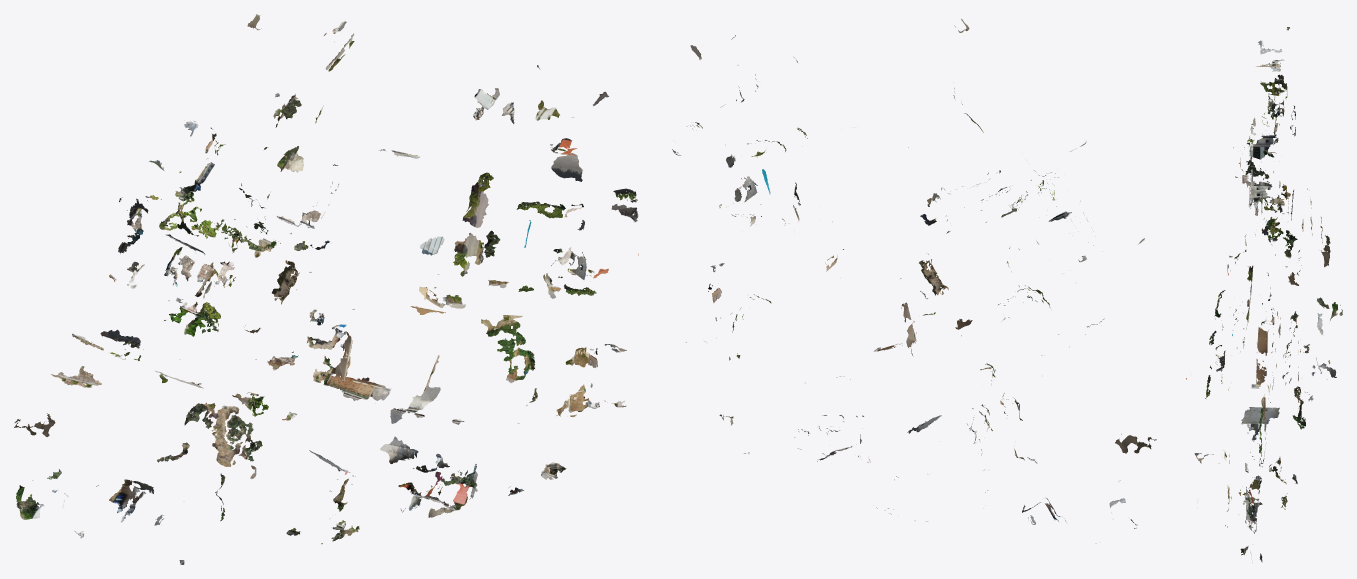
Rendered from tile_4.glb.
3 renders of one model, left to right at view 1: azimuth 30°, elevation 25°; view 2: azimuth 150°, elevation 25°; view 3: azimuth 270°, elevation 25°, orthographic. The views are drawn at different scales.
Size of the model in its own units: 174 by 161 by 49.5.
Materials: 1 (1 with a texture image).
